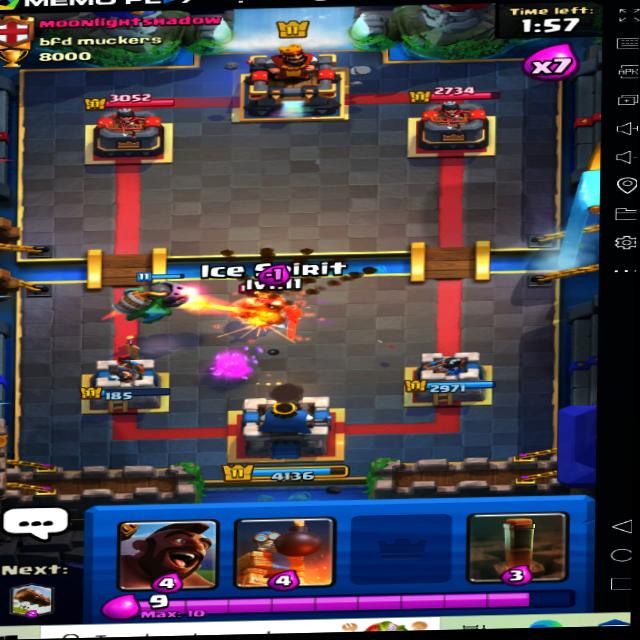golden-knight: (215, 278, 314, 336)
